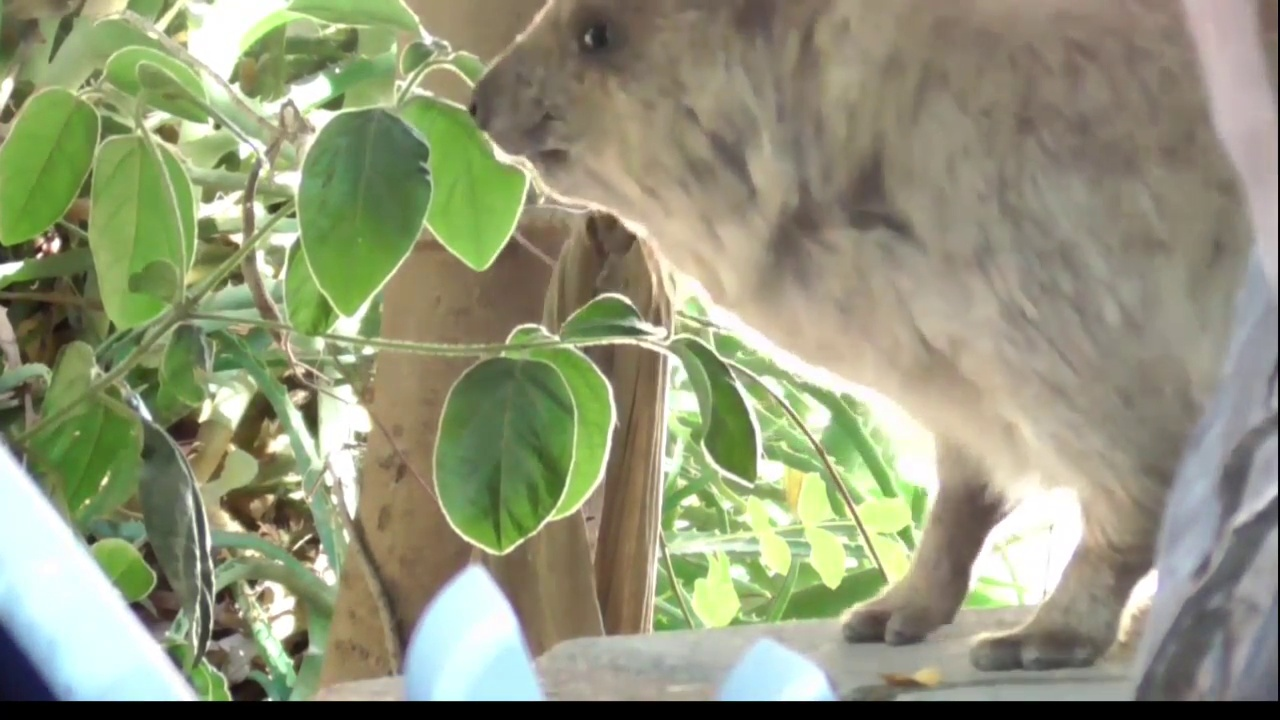Rock Hyrex: (467, 1, 1260, 675)
